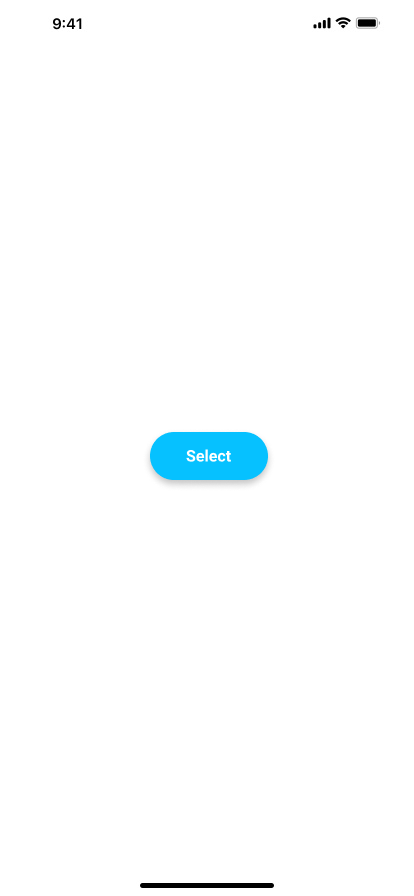Buttons: (142, 428, 276, 492)
Home Indicator: (0, 862, 414, 896)
Status Bar: (0, 0, 414, 44)
